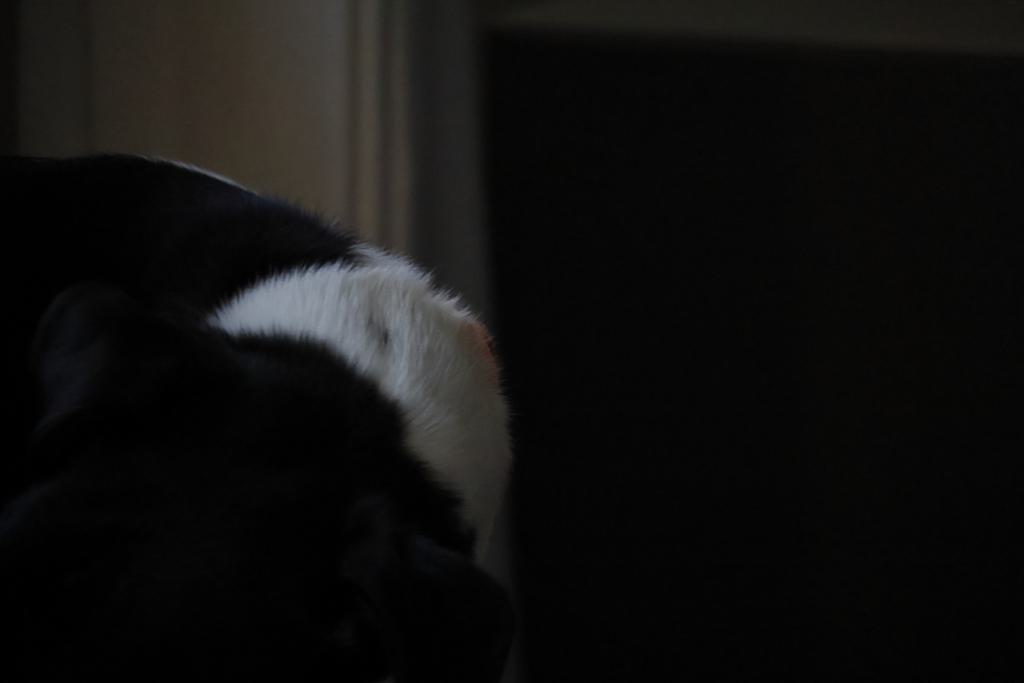Dog: (0, 131, 571, 683)
